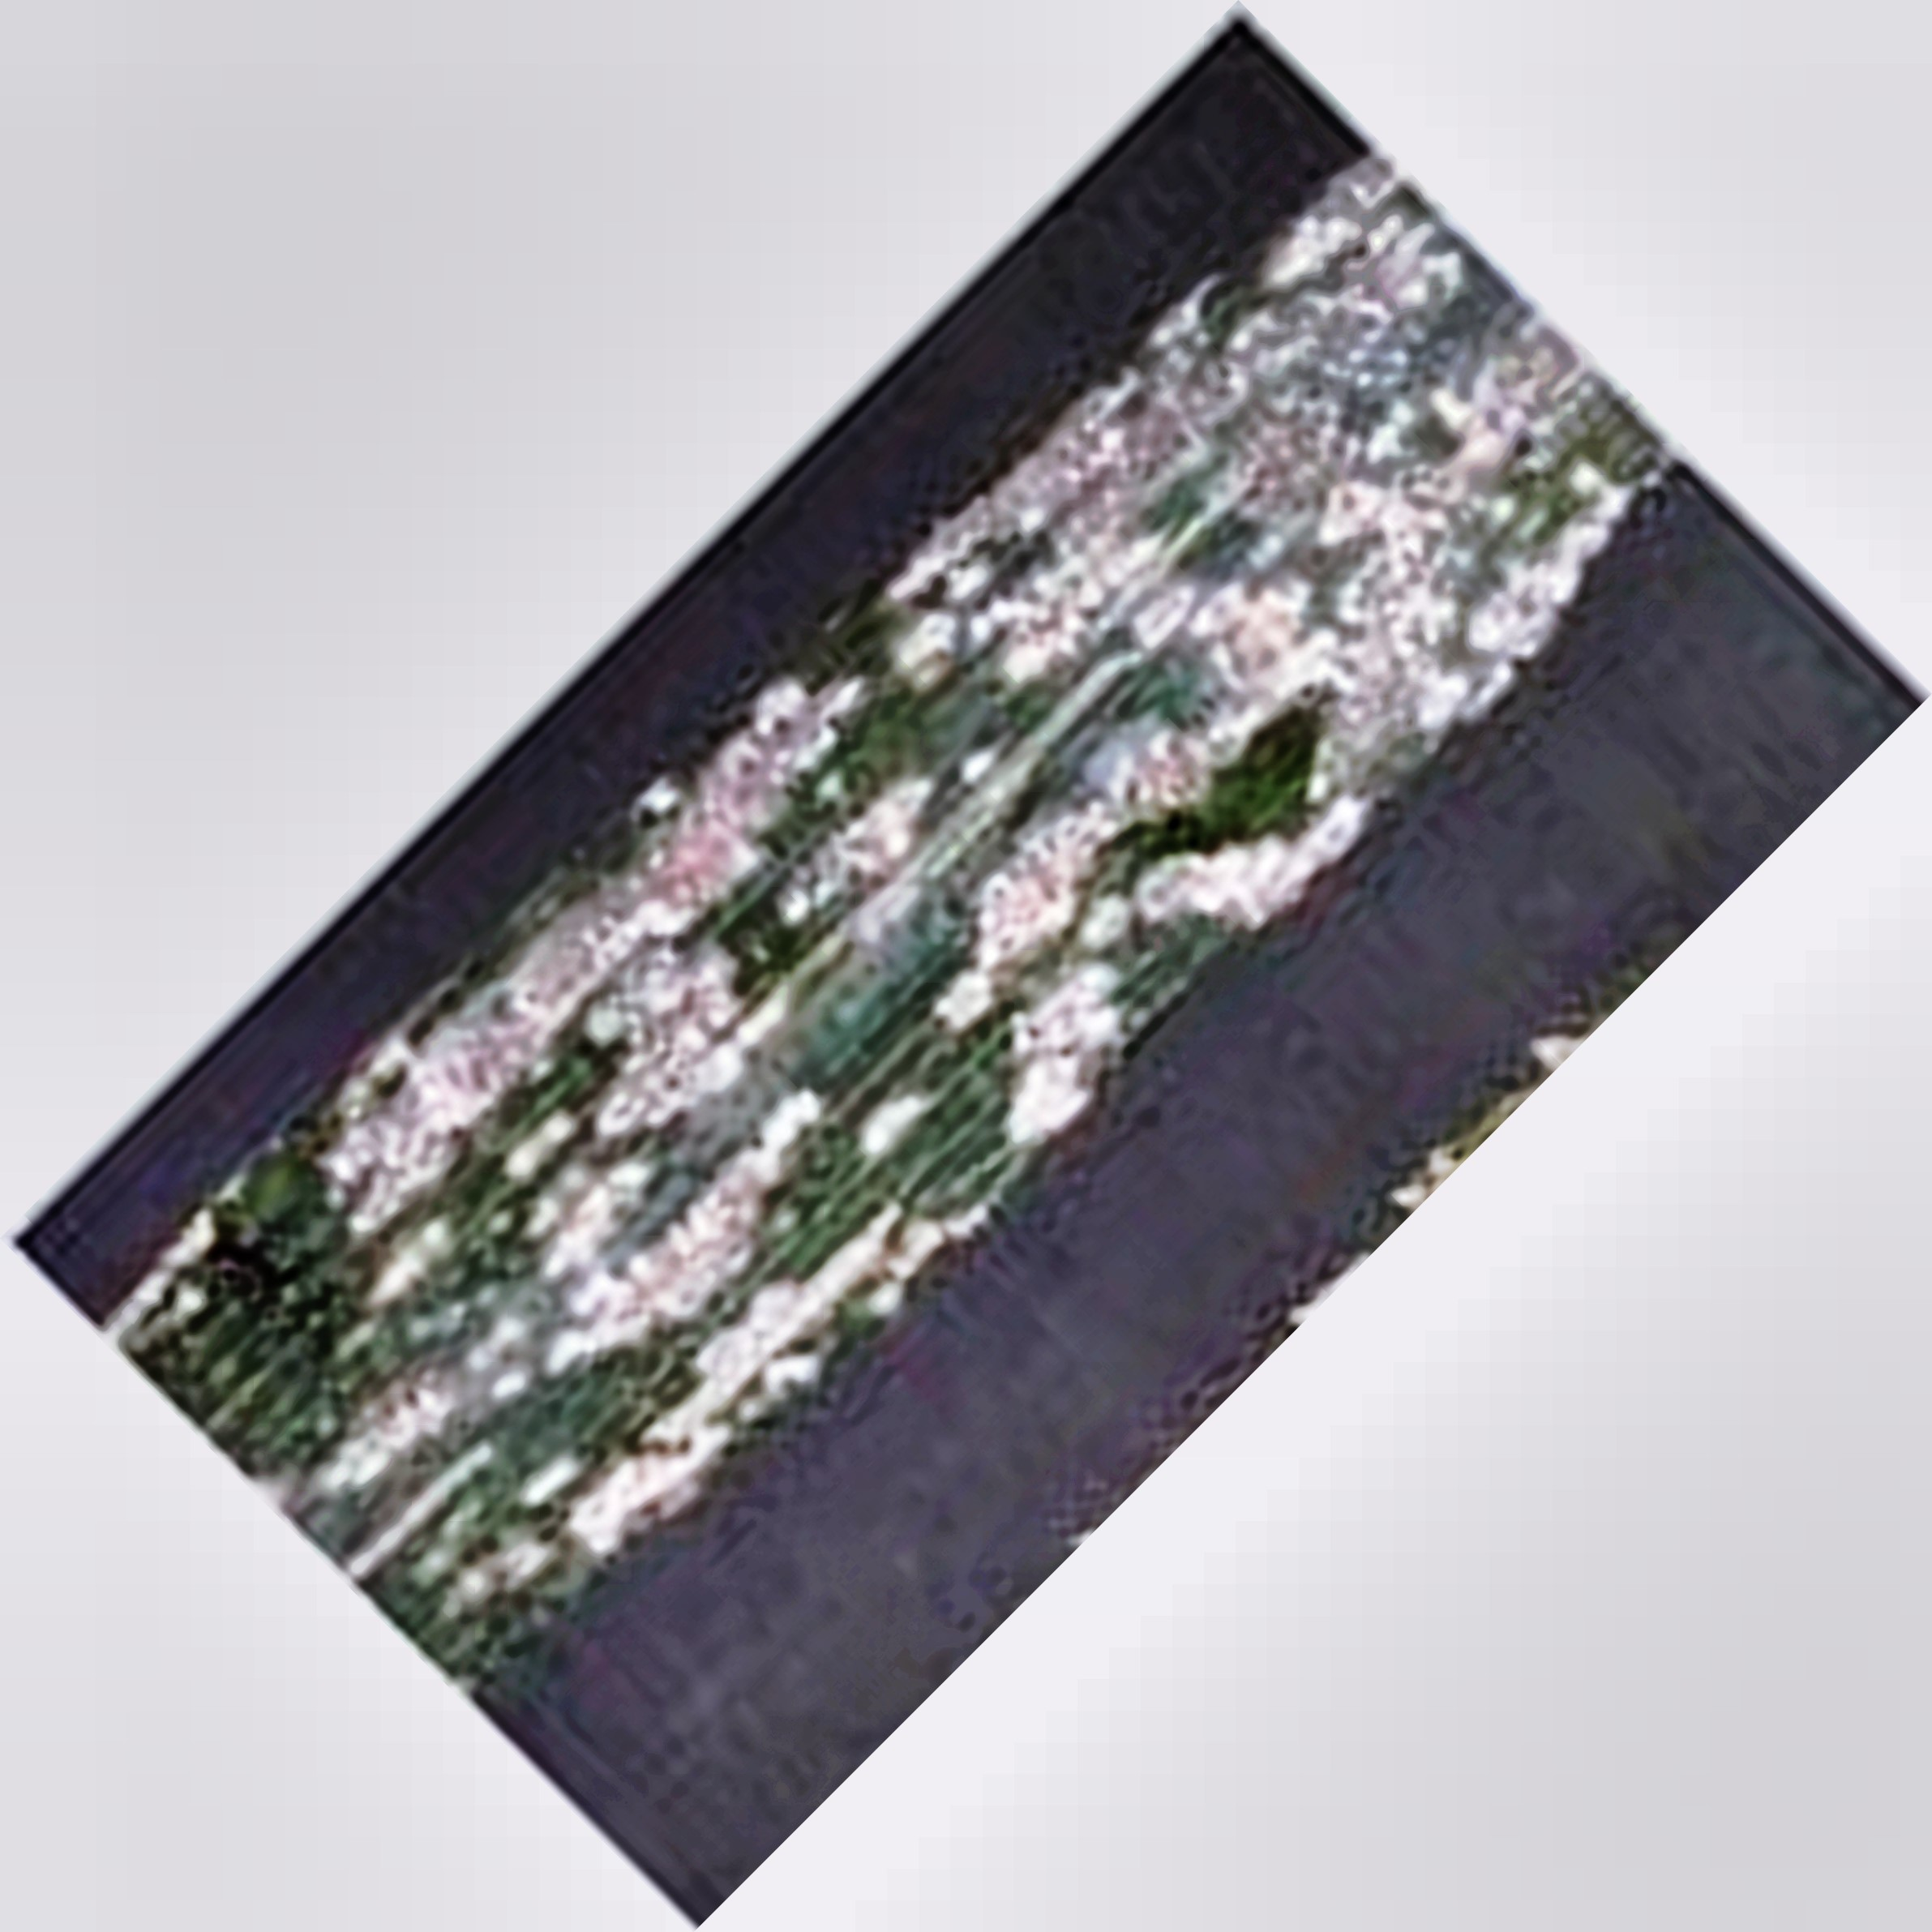Powdery Mildew: (322, 354, 1573, 1433)
